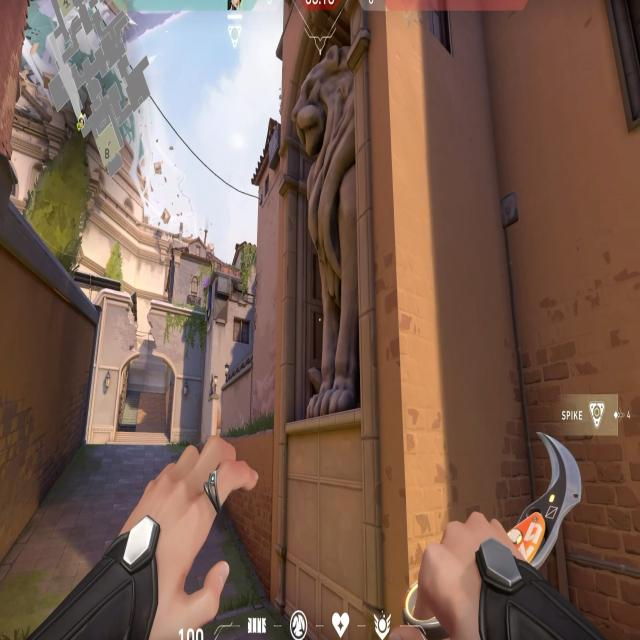Lion_Corner: (274, 20, 386, 482)
